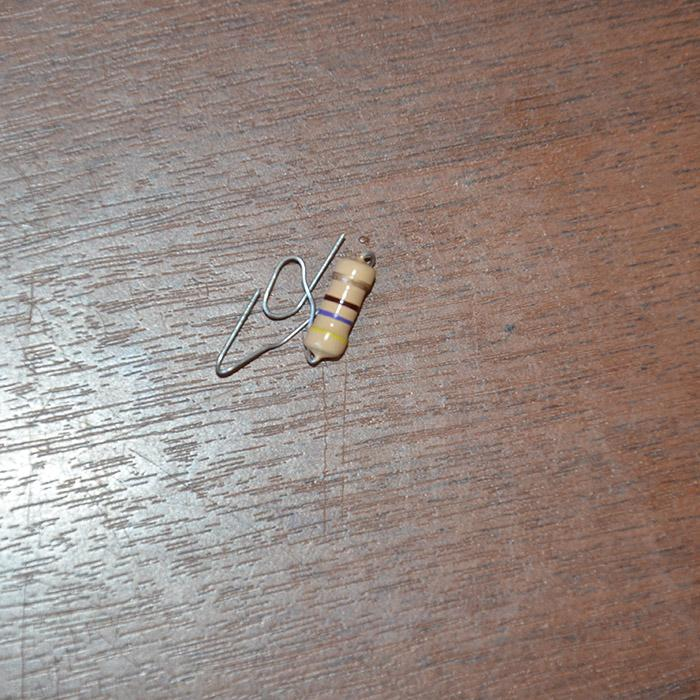resistor: (302, 252, 376, 360)
